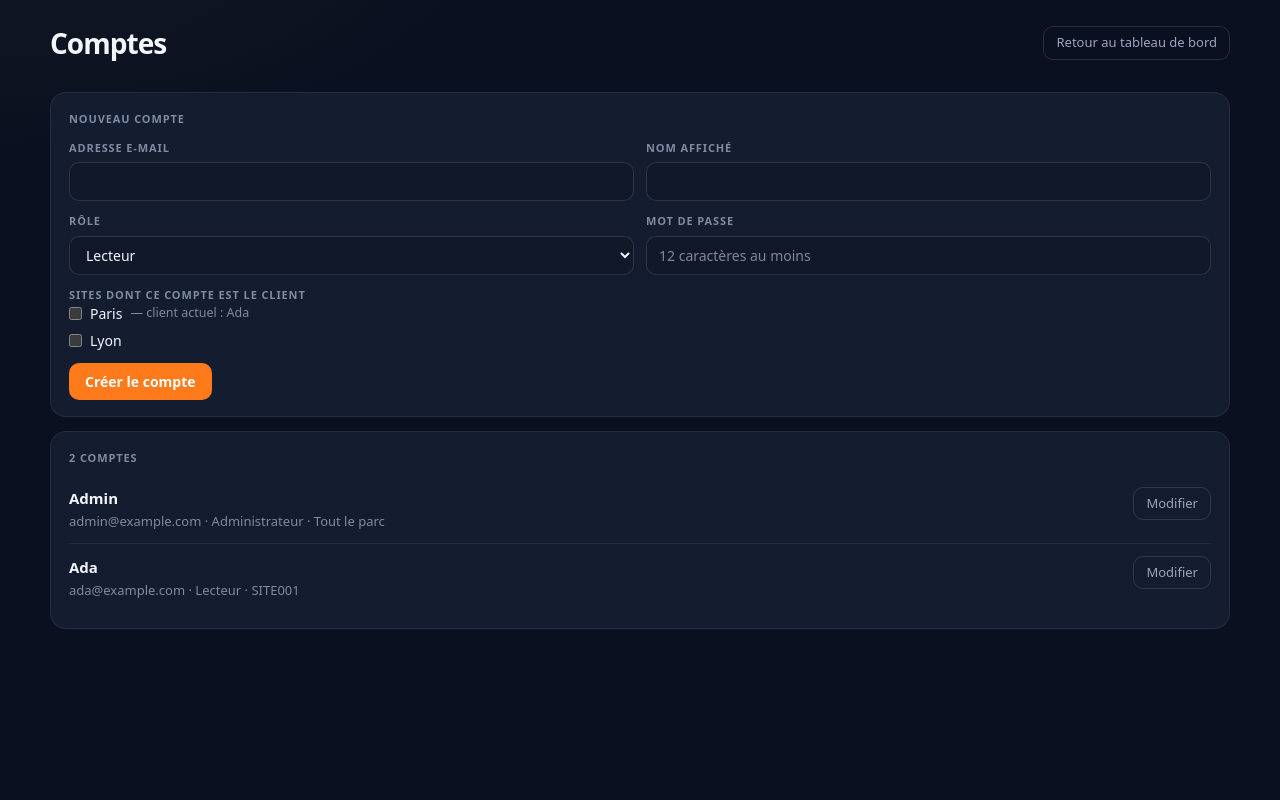
Accounts › cannot remove the rights of the signed-in admin
The image size is (1280, 800).
Click the button with aria-label "Modifier Admin": {"x": 1172, "y": 503} left=1134, top=486, right=1211, bottom=520
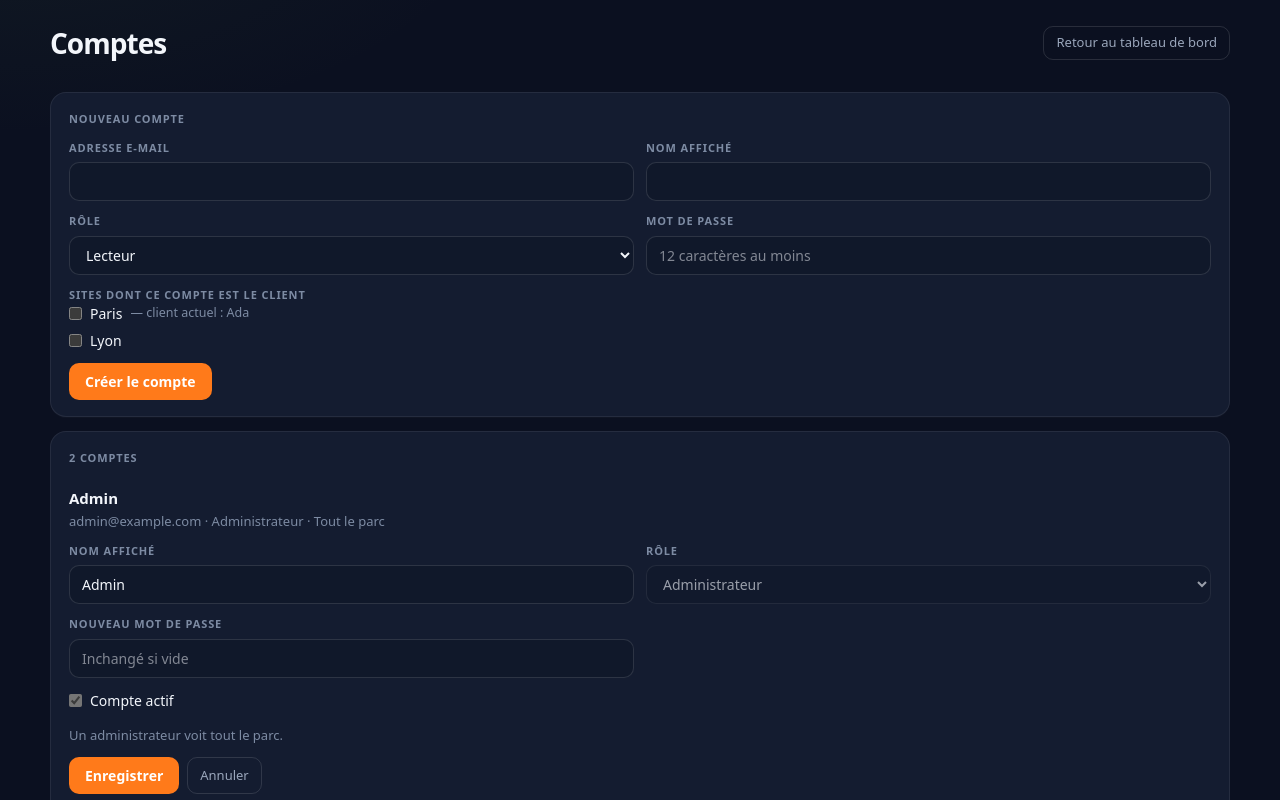
Result: the 2nd dropdown labelled "Rôle" is disabled at left=646, top=565, right=1211, bottom=604
Result: the checkbox labelled "Compte actif" is disabled at left=69, top=694, right=82, bottom=707
Click the button "Annuler": {"x": 225, "y": 775} left=187, top=757, right=262, bottom=794
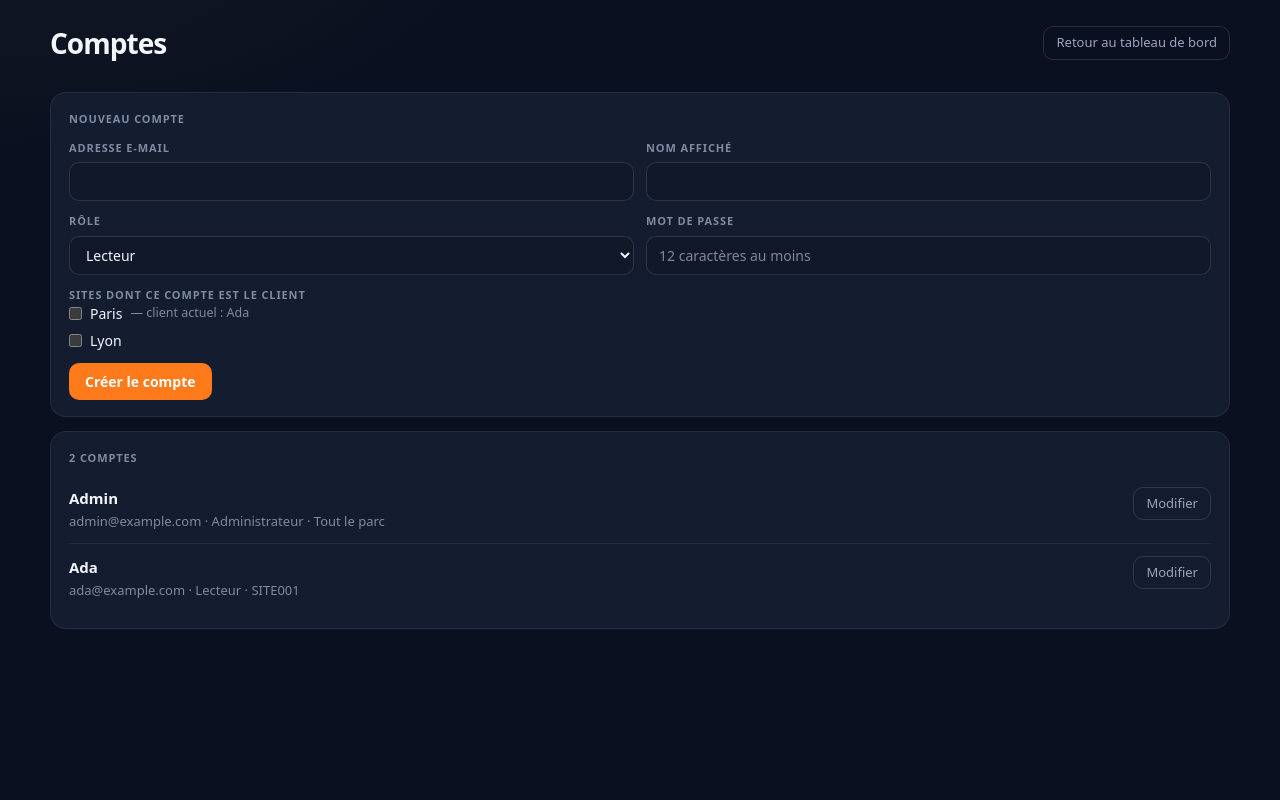
Result: the button "Enregistrer" is gone
